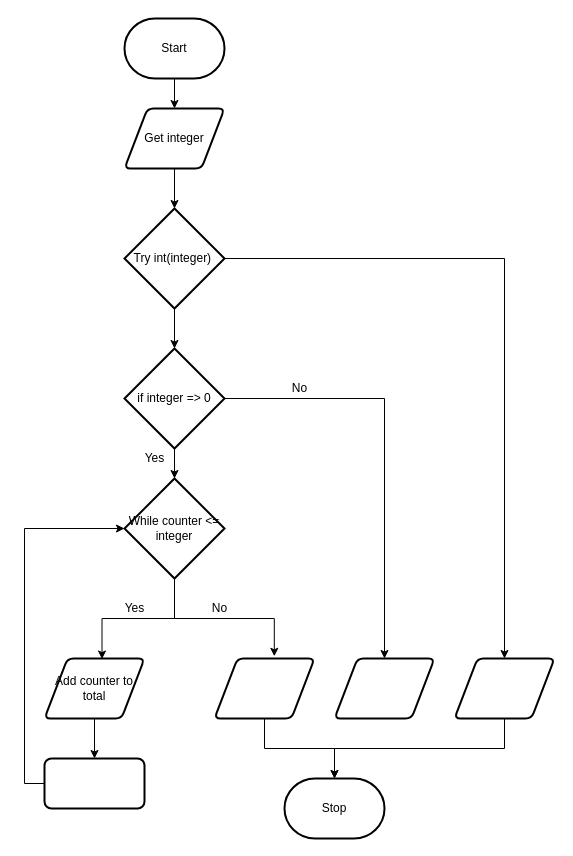
This 573x856 diagram has some shape labels left out. The box of each missing label's shape, as (x1, y1, x2, y2) in pixels:
counter = counter+1: (43, 757, 145, 809)
Print ("{0} is an invalid input."): (453, 657, 555, 719)
Print ("{0} is not a positive integer.": (333, 657, 435, 719)
Print total: (213, 657, 315, 719)
